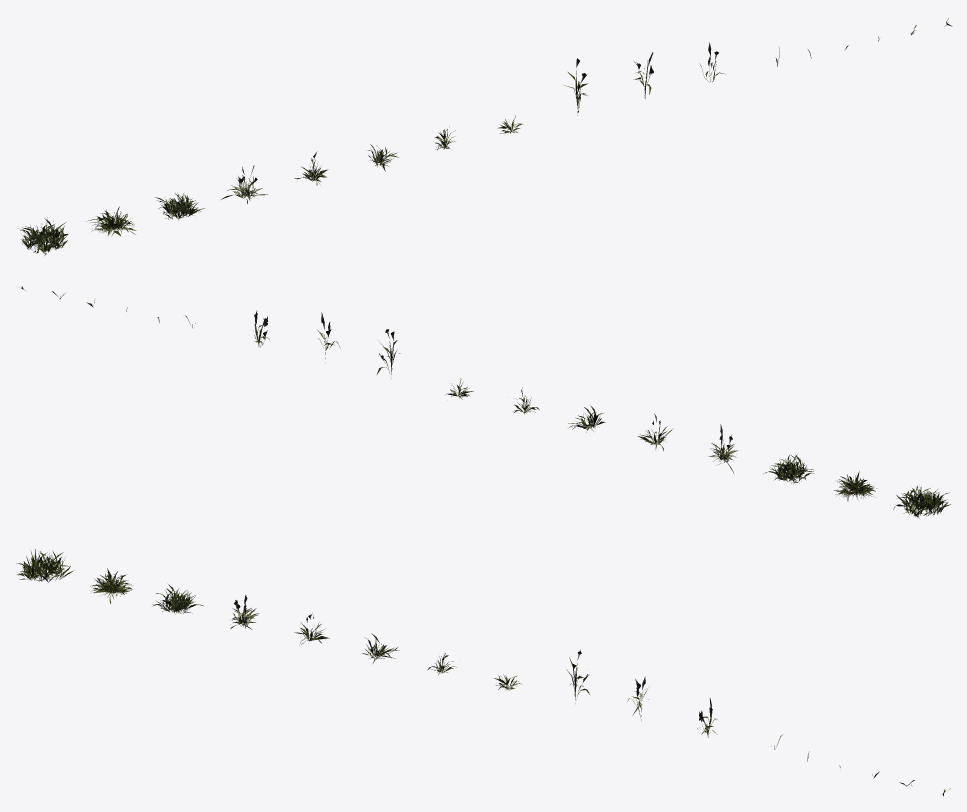
The model's file is grass_medium_01.glb.
3 views of the same model, one above another, from view 1: azimuth 30°, elevation 25°; view 2: azimuth 150°, elevation 25°; view 3: azimuth 330°, elevation 25° (orthographic).
Parts seen in each view (by area): view 1: grass_medium_01_small_a_LOD0; view 2: grass_medium_01_small_a_LOD0; view 3: grass_medium_01_small_a_LOD0.
Boxes of the visible parts, bbox=[...] form: grass_medium_01_small_a_LOD0: bbox=[20, 18, 952, 255]; grass_medium_01_small_a_LOD0: bbox=[21, 286, 950, 518]; grass_medium_01_small_a_LOD0: bbox=[16, 549, 950, 796].
Bounding box in the file's own units: 5.6 × 0.3426 × 0.3264.
1 material, 1 textured.
